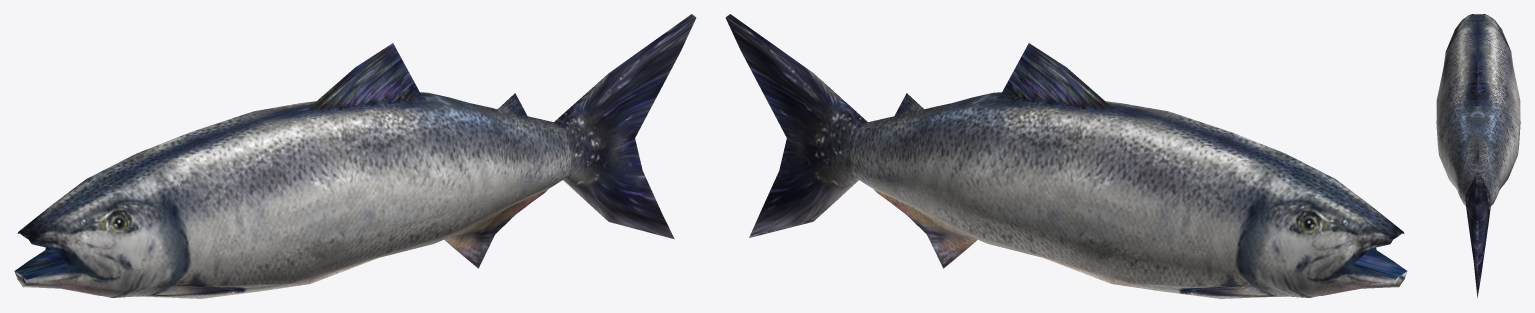
File: sake.fbx
The picture shows the model from 3 angles, left to right: view 1: azimuth 30°, elevation 25°; view 2: azimuth 150°, elevation 25°; view 3: azimuth 270°, elevation 25°; orthographic projection. The views are drawn at different scales.
Visible parts, largest first — view 1: sake; view 2: sake; view 3: sake.
Boxes of the visible parts, box(x1,y1,x2,y2) form: sake: box(14, 14, 696, 298); sake: box(725, 14, 1407, 298); sake: box(1436, 14, 1520, 298).
Size of the model in its own units: 204 by 76.39 by 37.02.
